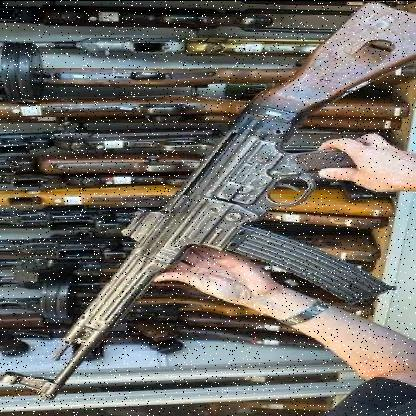rifle: (12, 1, 415, 401)
